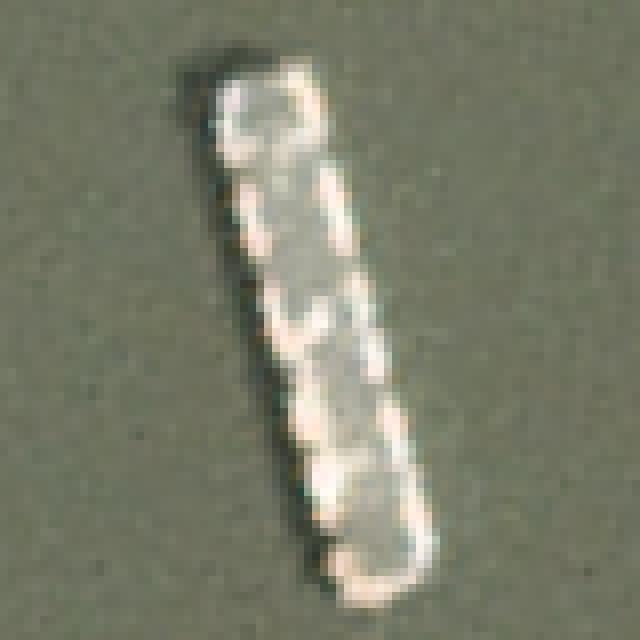ship: (182, 31, 472, 614)
